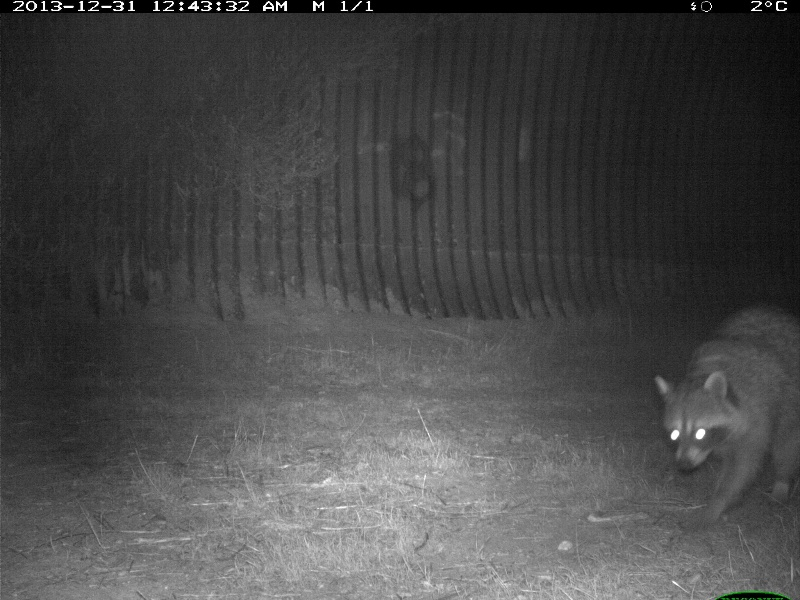raccoon: (652, 305, 800, 535)
